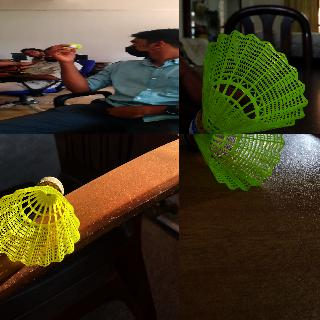shuttlecock: (187, 29, 307, 133), (0, 176, 79, 267), (181, 134, 286, 190), (64, 43, 82, 50)
